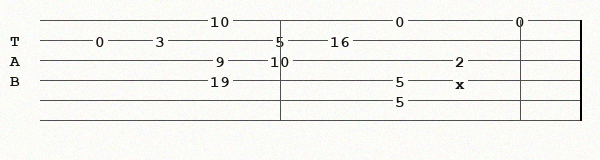0: (95, 33, 109, 47), (395, 13, 409, 27), (515, 13, 529, 27)
10: (210, 13, 234, 27), (270, 53, 294, 67)
16: (330, 33, 354, 47)
19: (210, 73, 234, 87)
2: (455, 53, 469, 67)
3: (155, 33, 169, 47)
5: (275, 33, 289, 47), (395, 93, 409, 107), (395, 73, 409, 87)
9: (215, 53, 229, 67)
x: (455, 75, 469, 86)
